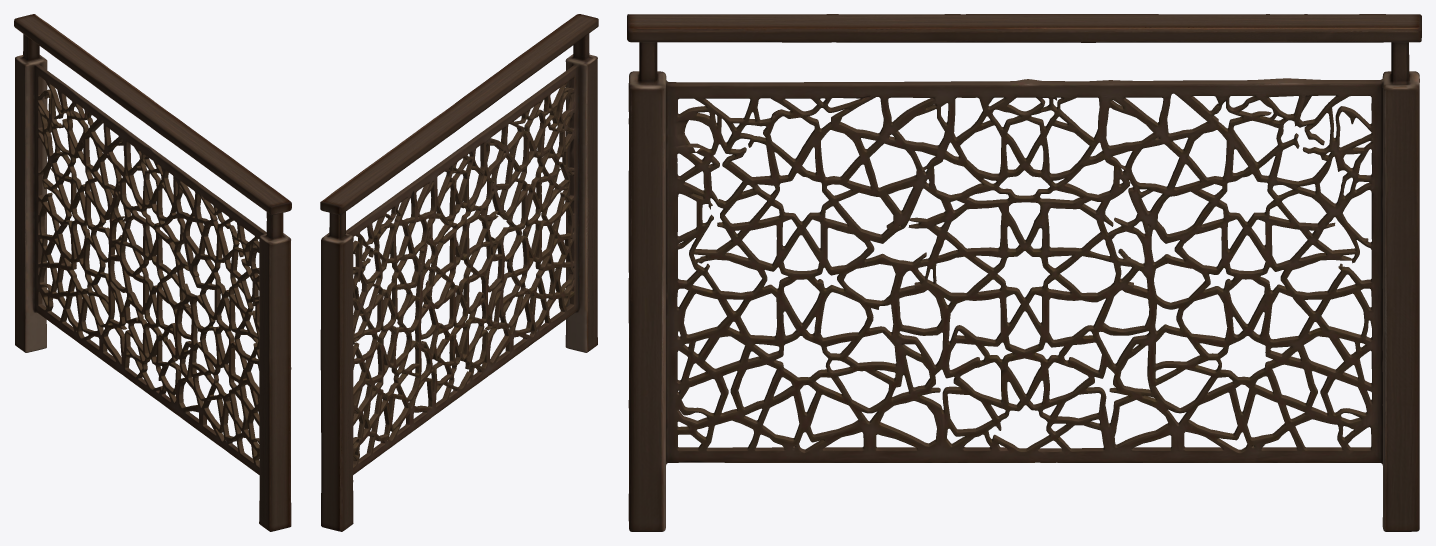
The model's file is railing.glb.
3 views of the same model, side by side, from view 1: azimuth 30°, elevation 25°; view 2: azimuth 150°, elevation 25°; view 3: azimuth 270°, elevation 25° (orthographic). The views are drawn at different scales.
Parts seen in each view (by area): view 1: tripo_node_59b3634f-7aed-4abb-b65b-6a26f1630ae5; view 2: tripo_node_59b3634f-7aed-4abb-b65b-6a26f1630ae5; view 3: tripo_node_59b3634f-7aed-4abb-b65b-6a26f1630ae5.
Boxes of the visible parts, x1,y1,x2,y2 form: tripo_node_59b3634f-7aed-4abb-b65b-6a26f1630ae5: (14,14,291,531); tripo_node_59b3634f-7aed-4abb-b65b-6a26f1630ae5: (320,14,598,531); tripo_node_59b3634f-7aed-4abb-b65b-6a26f1630ae5: (627,14,1421,531).
Bounding box in the file's own units: 0.0724 × 1 × 1.43.
1 material, 1 textured.
